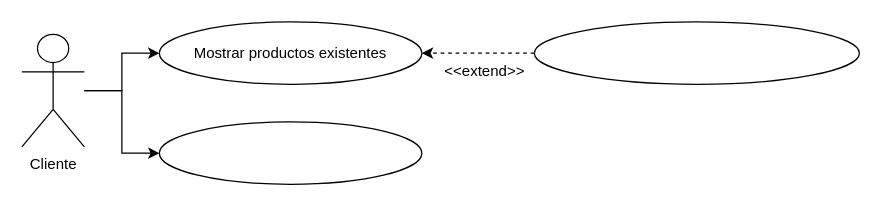
The diagram is 881 pixels wide and 206 high, and some of its shapes have lost their labels. Here are the shapes that lost their labels. From the top down, the box of each, then its label:
(533, 21, 859, 84): Mostrar productos filtrados por categoría
(158, 121, 422, 184): Mostrar combos existentes
